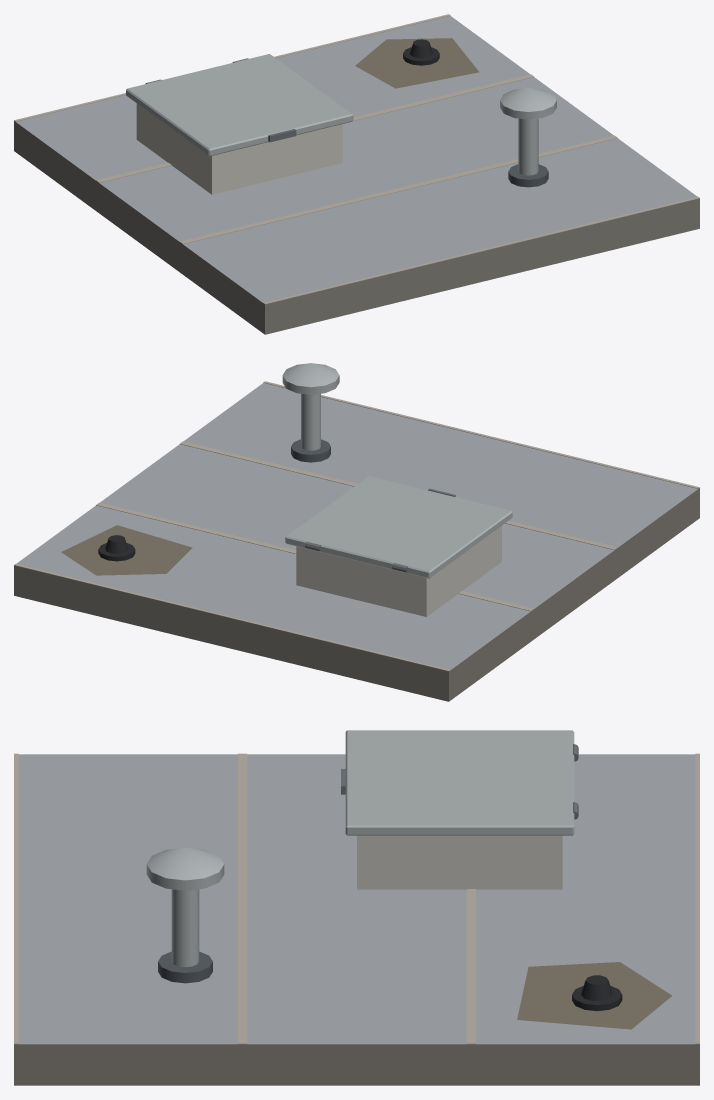
File: SC_Bld_Store_Roof_3x3_Vent.gltf
The picture shows the model from 3 angles, top to bottom: view 1: azimuth 30°, elevation 25°; view 2: azimuth 150°, elevation 25°; view 3: azimuth 270°, elevation 25°; orthographic projection. The views are drawn at different scales.
Parts seen in each view (by area): view 1: SC_Bld_Store_Roof_3x3_Vent; view 2: SC_Bld_Store_Roof_3x3_Vent; view 3: SC_Bld_Store_Roof_3x3_Vent.
Boxes of the visible parts, bbox=[...] form: SC_Bld_Store_Roof_3x3_Vent: bbox=[14, 14, 699, 334]; SC_Bld_Store_Roof_3x3_Vent: bbox=[14, 363, 699, 701]; SC_Bld_Store_Roof_3x3_Vent: bbox=[14, 730, 699, 1085].
Bounding box in the file's own units: 3 × 0.8 × 3.
Materials: 1 (1 with a texture image).
